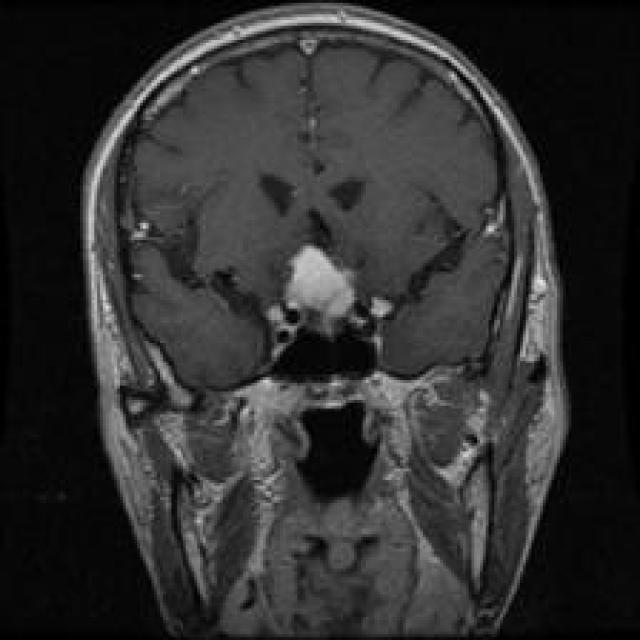meningioma_tumor: (275, 230, 394, 353)
